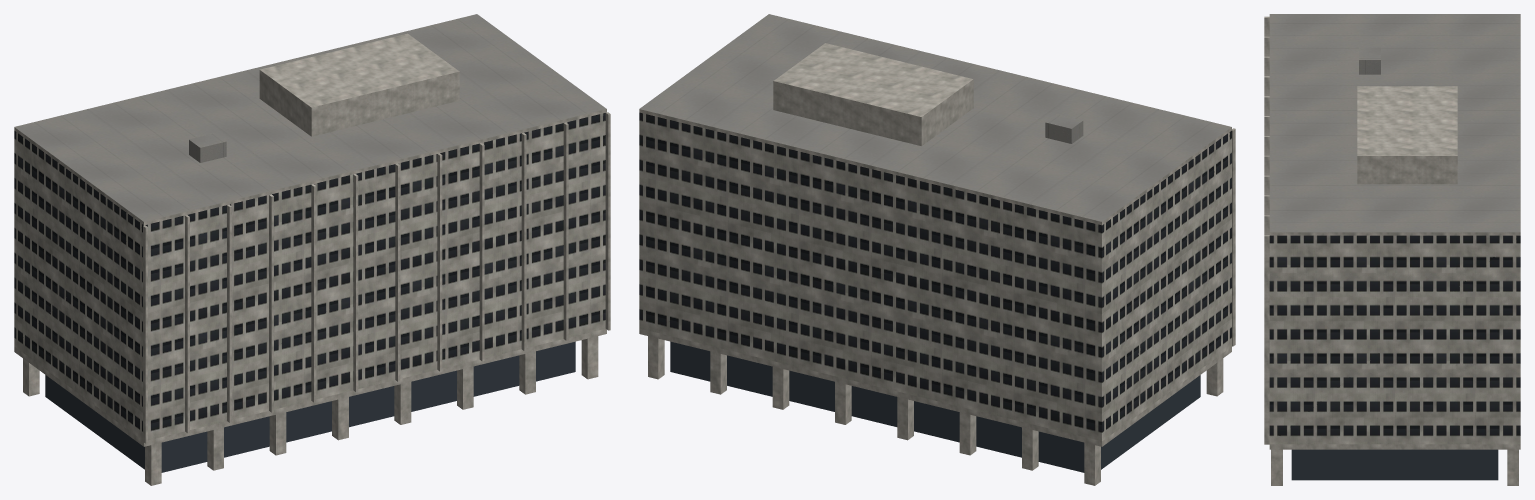
The model's file is dc_brutal.glb.
3 views of the same model, side by side, from view 1: azimuth 30°, elevation 25°; view 2: azimuth 150°, elevation 25°; view 3: azimuth 270°, elevation 25° (orthographic). The views are drawn at different scales.
Parts seen in each view (by area): view 1: dc_brutal; view 2: dc_brutal; view 3: dc_brutal.
Part boxes in pixels (left/top/right/bottom): dc_brutal: left=14, top=14, right=610, bottom=485; dc_brutal: left=639, top=14, right=1235, bottom=485; dc_brutal: left=1264, top=14, right=1520, bottom=485.
Bounding box in the file's own units: 70.35 × 42.7 × 34.7.
5 materials, 5 textured.
